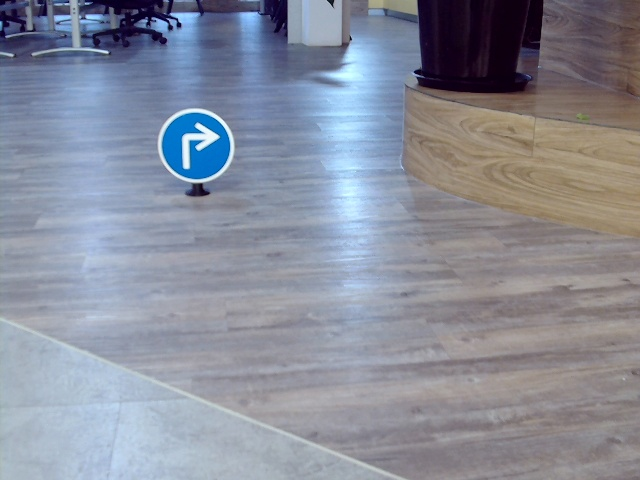turn_right: (178, 121, 222, 167)
